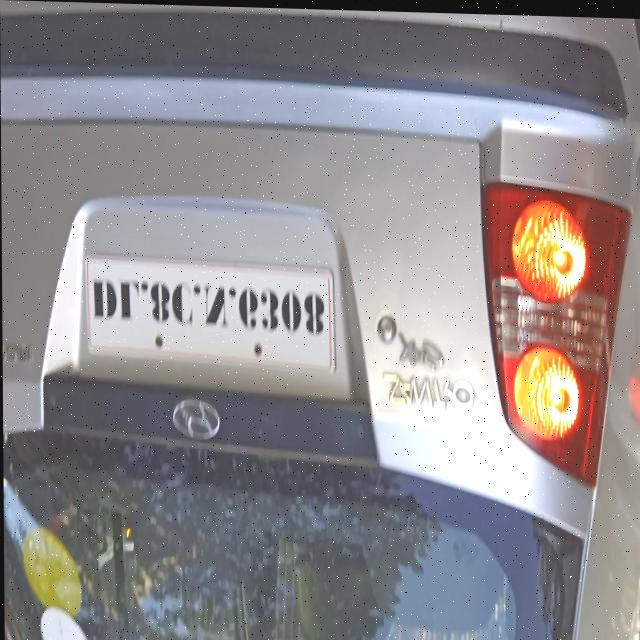plate: (81, 253, 344, 370)
